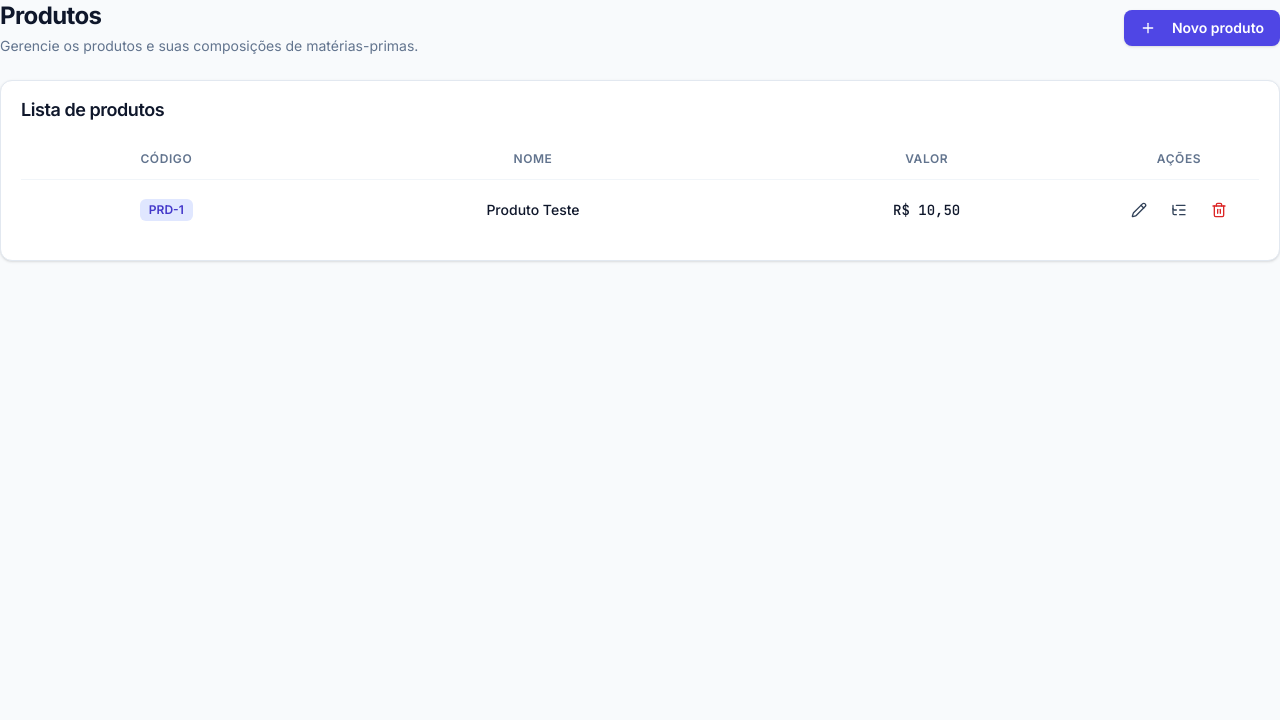
Test case: ProductsPage › opens ConfirmDialog when deleting a product
This screenshot has width=1280, height=720.
Expected: the text "Produto Teste" is shown, left=312, top=179, right=754, bottom=240
Click the button named "Excluir" at (1219, 210), box left=1201, top=192, right=1237, bottom=228
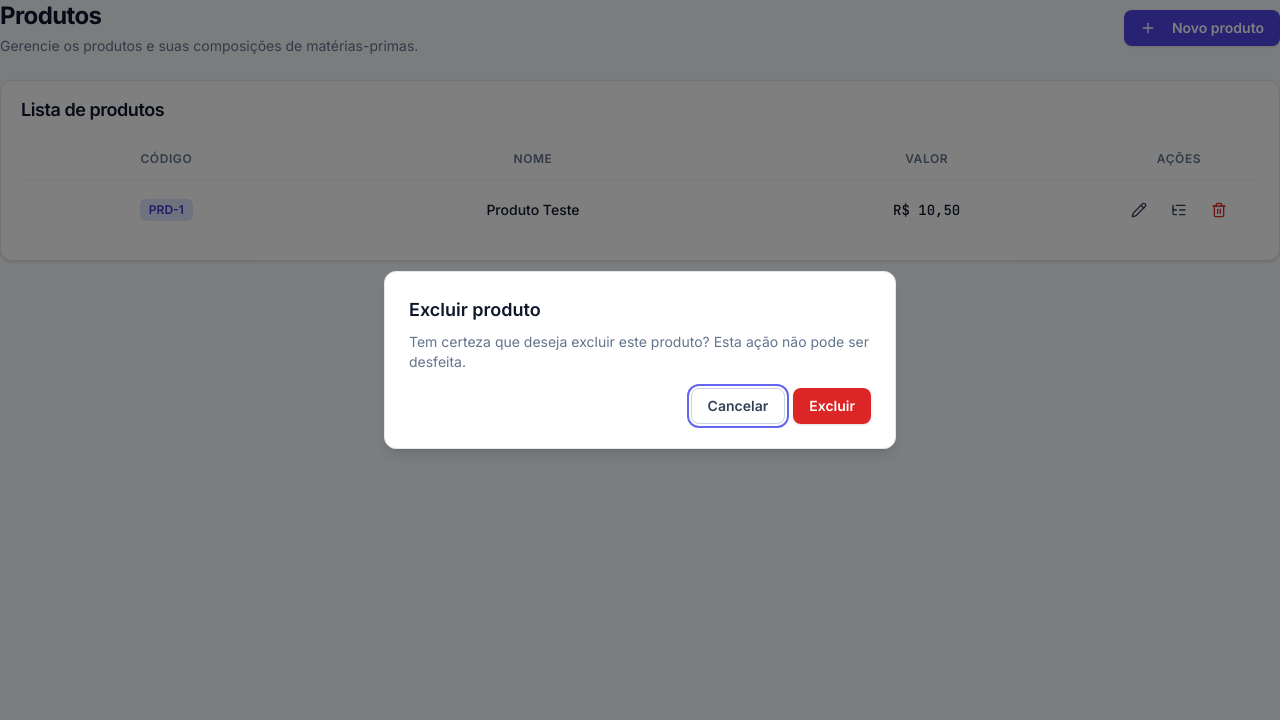
Result: the heading "Excluir produto" is shown at left=409, top=299, right=541, bottom=320
Result: the button "Cancelar" is shown at left=691, top=388, right=785, bottom=424
